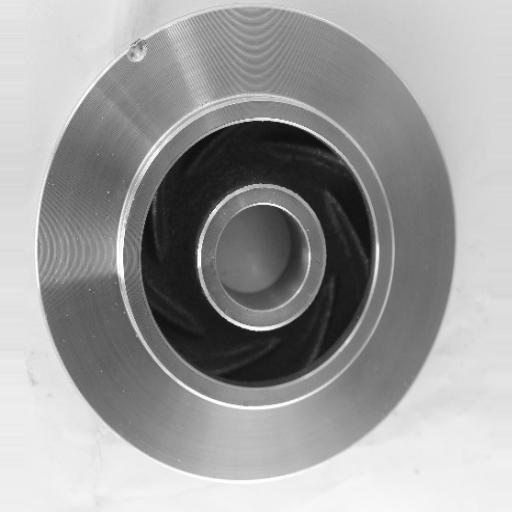crack: (117, 31, 161, 68)
unpolished_casting: (35, 5, 460, 487)
